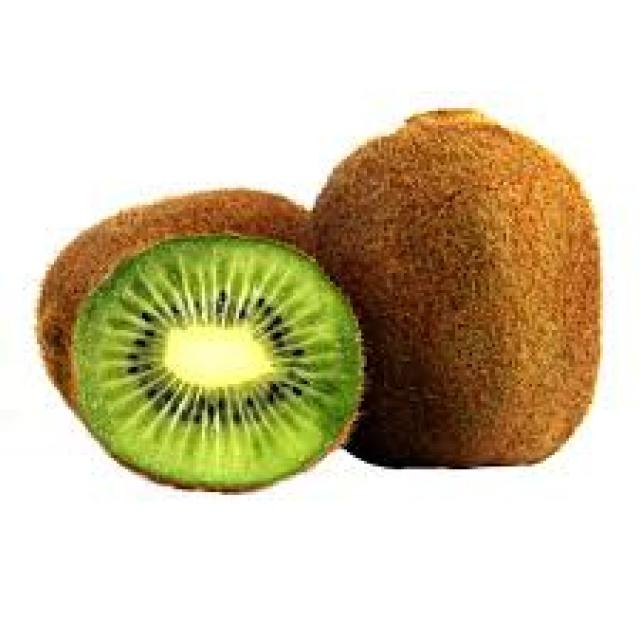organic waste: (319, 106, 600, 467), (63, 228, 364, 489), (40, 185, 321, 421)
